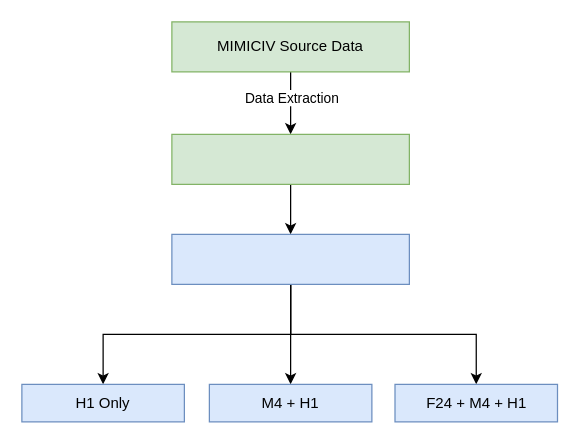
This 580x444 diagram has some shape labels left out. Each missing label, with the centre of its shape:
"Hourly Trajectories" goes at point 290,258.
"Trauma Cohort Data C4" goes at point 290,158.
